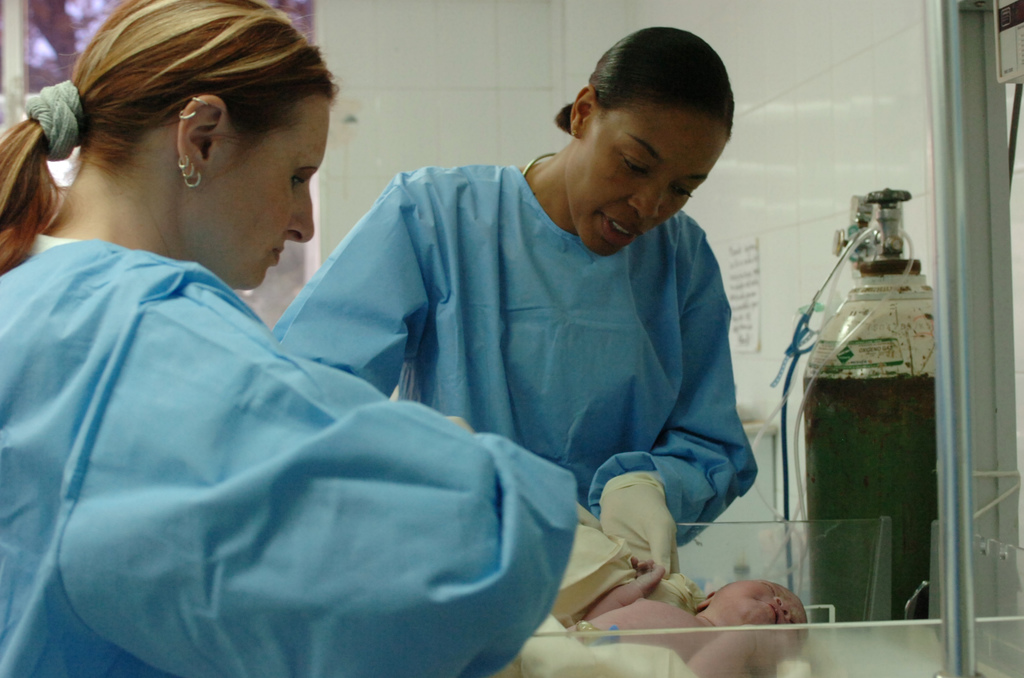Person: (0, 0, 577, 678), (271, 26, 760, 580), (567, 559, 807, 678)
